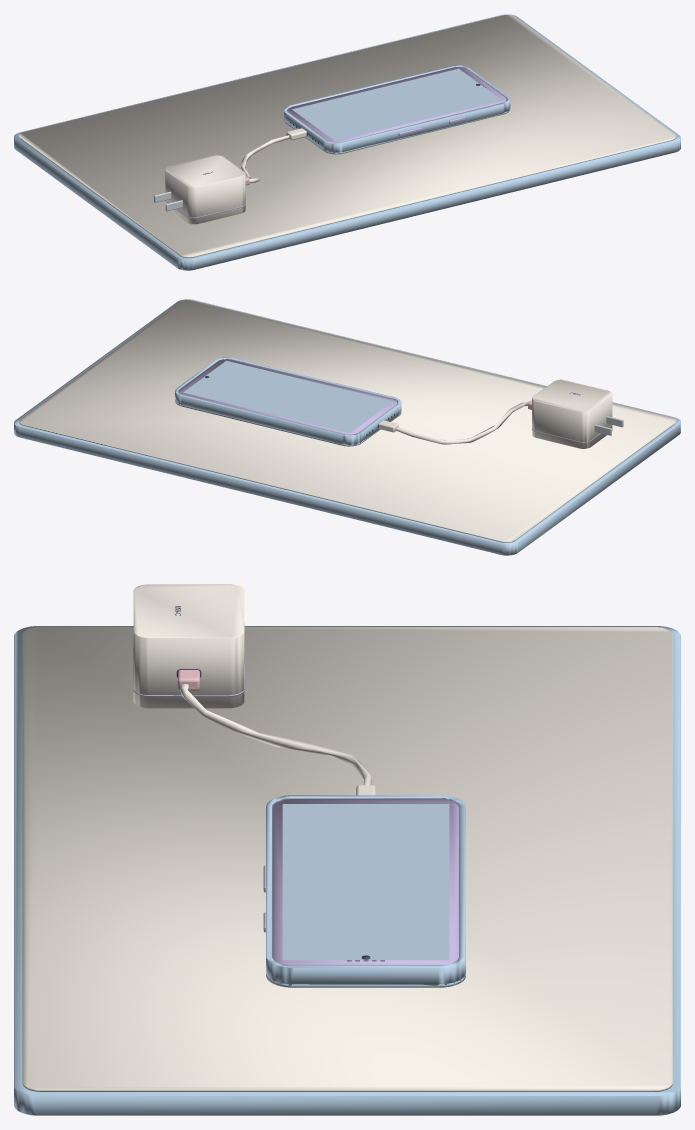
File: phone.glb
3 renders of one model, top to bottom at view 1: azimuth 30°, elevation 25°; view 2: azimuth 150°, elevation 25°; view 3: azimuth 270°, elevation 25°, orthographic. The views are drawn at different scales.
Visible parts, largest first — view 1: MESH_CHARGE_STATION_Phone_pastel_cream, MESH_CHARGE_STATION_SHELL_MAT, MESH_SCREEN_SURFACE_SCREEN_MAT, MESH_CHARGER_ROOT_Phone_pastel_cream, MESH_PHONE_BACK_SHELL_MAT, MESH_PHONE_SCREEN_Phone_pastel_lilac, MESH_USB_CABLE_Phone_pastel_cream; view 2: MESH_CHARGE_STATION_Phone_pastel_cream, MESH_CHARGE_STATION_SHELL_MAT, MESH_SCREEN_SURFACE_SCREEN_MAT, MESH_CHARGER_ROOT_Phone_pastel_cream, MESH_PHONE_BACK_SHELL_MAT, MESH_PHONE_SCREEN_Phone_pastel_lilac, MESH_USB_CABLE_Phone_pastel_cream; view 3: MESH_CHARGE_STATION_Phone_pastel_cream, MESH_SCREEN_SURFACE_SCREEN_MAT, MESH_CHARGE_STATION_SHELL_MAT, MESH_CHARGER_ROOT_Phone_pastel_cream, MESH_PHONE_BACK_SHELL_MAT, MESH_PHONE_SCREEN_Phone_pastel_lilac, MESH_USB_CABLE_Phone_pastel_cream.
Boxes of the visible parts, x1,y1,x2,y2 form: MESH_CHARGE_STATION_Phone_pastel_cream: [19, 15, 675, 257]; MESH_CHARGE_STATION_SHELL_MAT: [14, 14, 680, 270]; MESH_SCREEN_SURFACE_SCREEN_MAT: [292, 68, 501, 140]; MESH_CHARGER_ROOT_Phone_pastel_cream: [165, 155, 245, 224]; MESH_PHONE_BACK_SHELL_MAT: [284, 65, 510, 154]; MESH_PHONE_SCREEN_Phone_pastel_lilac: [288, 67, 506, 142]; MESH_USB_CABLE_Phone_pastel_cream: [241, 128, 306, 183]; MESH_CHARGE_STATION_Phone_pastel_cream: [19, 300, 675, 542]; MESH_CHARGE_STATION_SHELL_MAT: [14, 299, 680, 555]; MESH_SCREEN_SURFACE_SCREEN_MAT: [183, 360, 393, 433]; MESH_CHARGER_ROOT_Phone_pastel_cream: [532, 379, 612, 448]; MESH_PHONE_BACK_SHELL_MAT: [175, 357, 401, 446]; MESH_PHONE_SCREEN_Phone_pastel_lilac: [179, 359, 397, 434]; MESH_USB_CABLE_Phone_pastel_cream: [378, 401, 529, 444]; MESH_CHARGE_STATION_Phone_pastel_cream: [22, 627, 672, 1091]; MESH_SCREEN_SURFACE_SCREEN_MAT: [282, 804, 449, 960]; MESH_CHARGE_STATION_SHELL_MAT: [14, 626, 680, 1115]; MESH_CHARGER_ROOT_Phone_pastel_cream: [133, 584, 244, 708]; MESH_PHONE_BACK_SHELL_MAT: [266, 795, 465, 987]; MESH_PHONE_SCREEN_Phone_pastel_lilac: [273, 798, 458, 965]; MESH_USB_CABLE_Phone_pastel_cream: [180, 684, 375, 795].
Bounding box in the file's own units: 0.3999 × 0.0391 × 0.2399.
